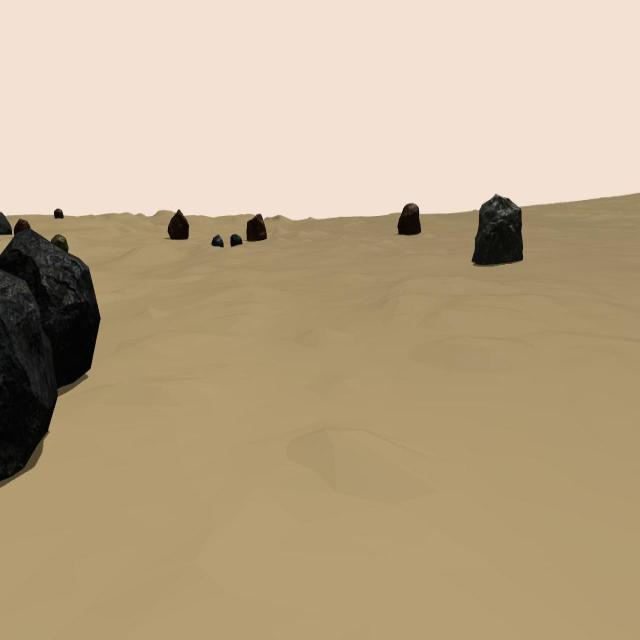rock: (0, 230, 100, 390), (0, 270, 59, 482), (472, 193, 524, 265), (398, 202, 422, 236), (168, 208, 189, 240), (246, 213, 267, 240), (50, 233, 68, 254), (14, 218, 31, 234), (1, 210, 12, 234), (230, 232, 243, 247), (211, 234, 223, 247), (54, 208, 63, 218)
